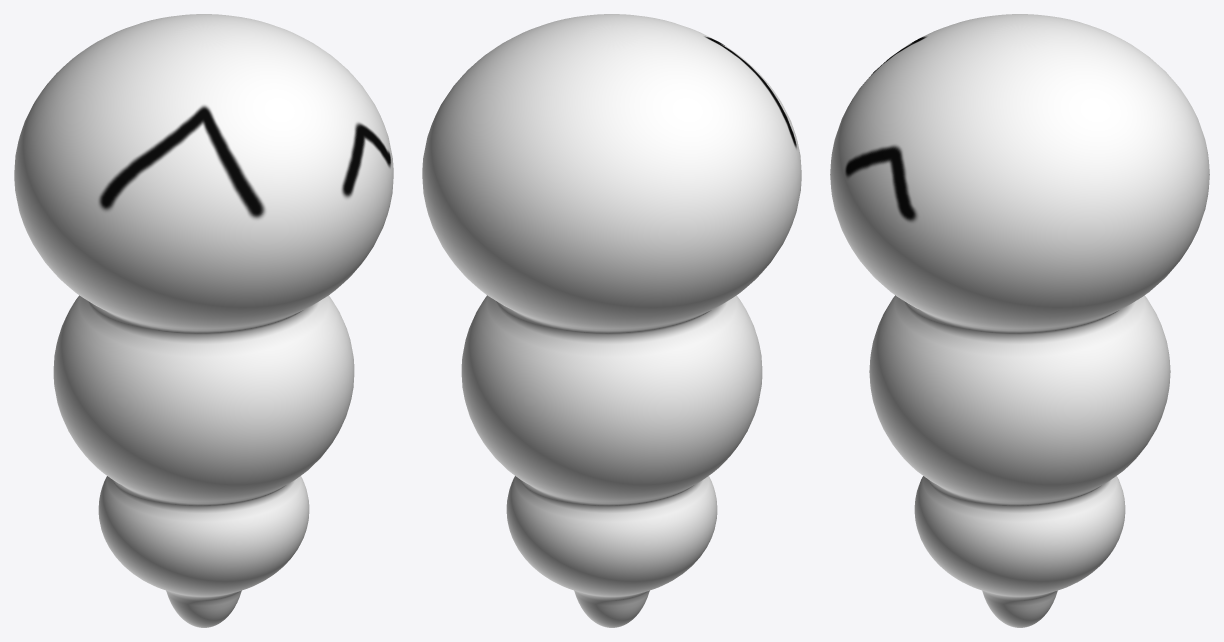
Rendered from girio_static.fbx.
3 renders of one model, left to right at view 1: azimuth 30°, elevation 25°; view 2: azimuth 150°, elevation 25°; view 3: azimuth 270°, elevation 25°, orthographic.
Visible parts, largest first — view 1: GIRIO; view 2: GIRIO; view 3: GIRIO.
Boxes of the visible parts, bbox=[...] form: GIRIO: bbox=[14, 14, 393, 627]; GIRIO: bbox=[422, 14, 801, 627]; GIRIO: bbox=[830, 14, 1209, 627].
Bounding box in the file's own units: 31.25 × 53.64 × 31.25.
